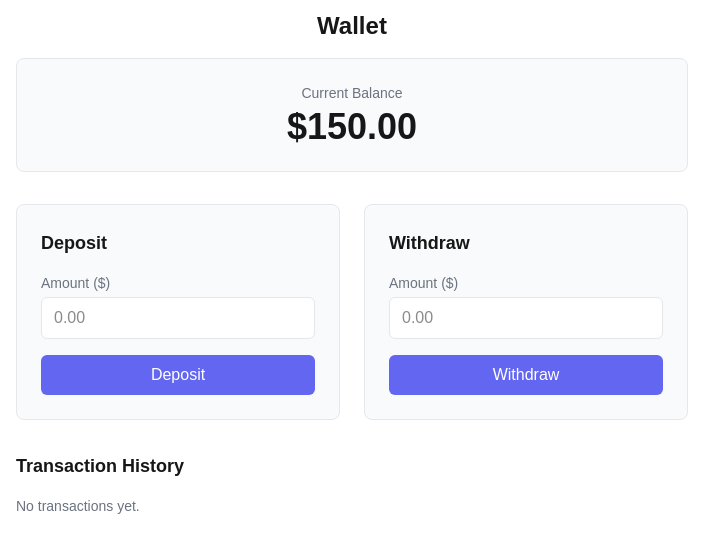
Test: WalletPage › shows validation error for empty withdrawal amount
Click the button "Withdraw".
click(526, 375)  # box [389, 355, 663, 395]
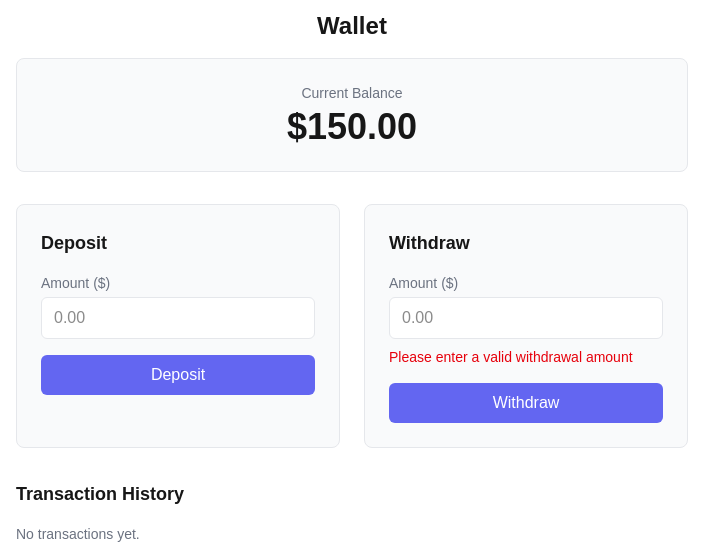
Result: the text "Please enter a valid withdrawal amount" is shown at [389, 347, 663, 367]
